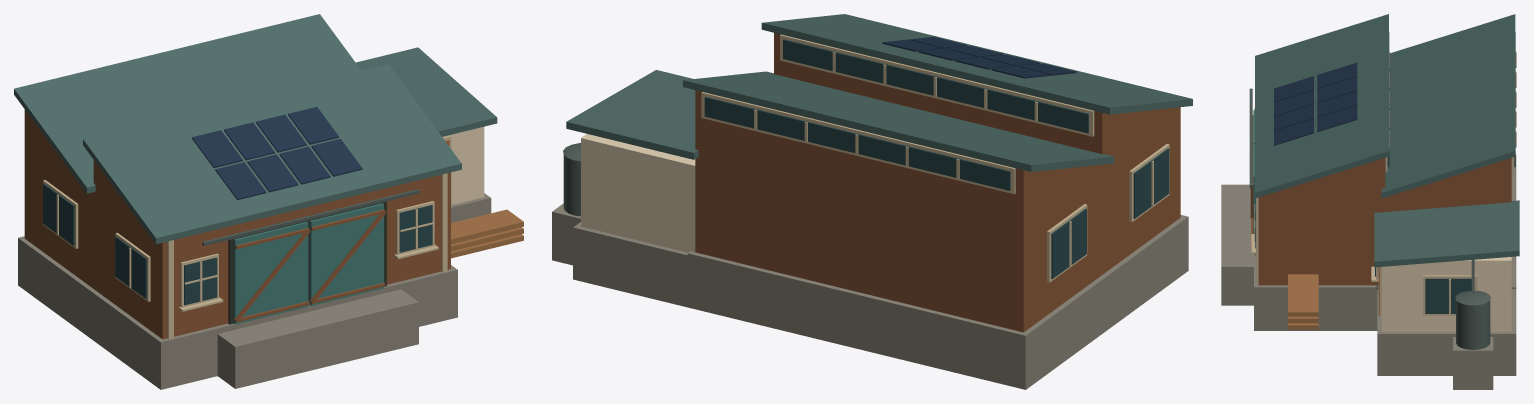
File: workshop.glb
3 views of the same model, side by side, from view 1: azimuth 30°, elevation 25°; view 2: azimuth 150°, elevation 25°; view 3: azimuth 270°, elevation 25° (orthographic). The views are drawn at different scales.
Parts seen in each view (by area): view 1: workshop; view 2: workshop; view 3: workshop.
Part boxes in pixels (x1,y1,x2,y2): workshop: [14, 14, 523, 389]; workshop: [552, 14, 1192, 389]; workshop: [1221, 14, 1519, 389].
Size of the model in its own units: 14.87 by 6.5 by 9.65.
